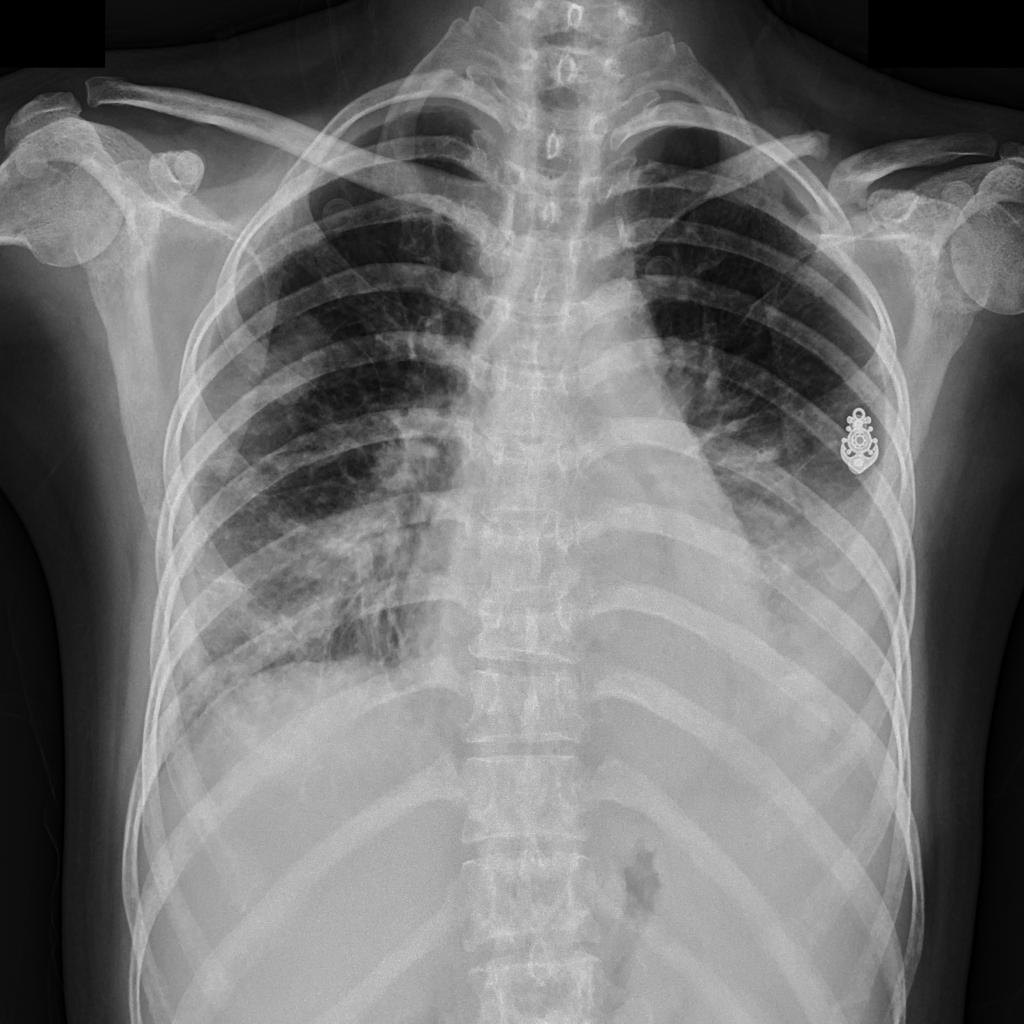Nodule: (252, 328, 334, 403)
